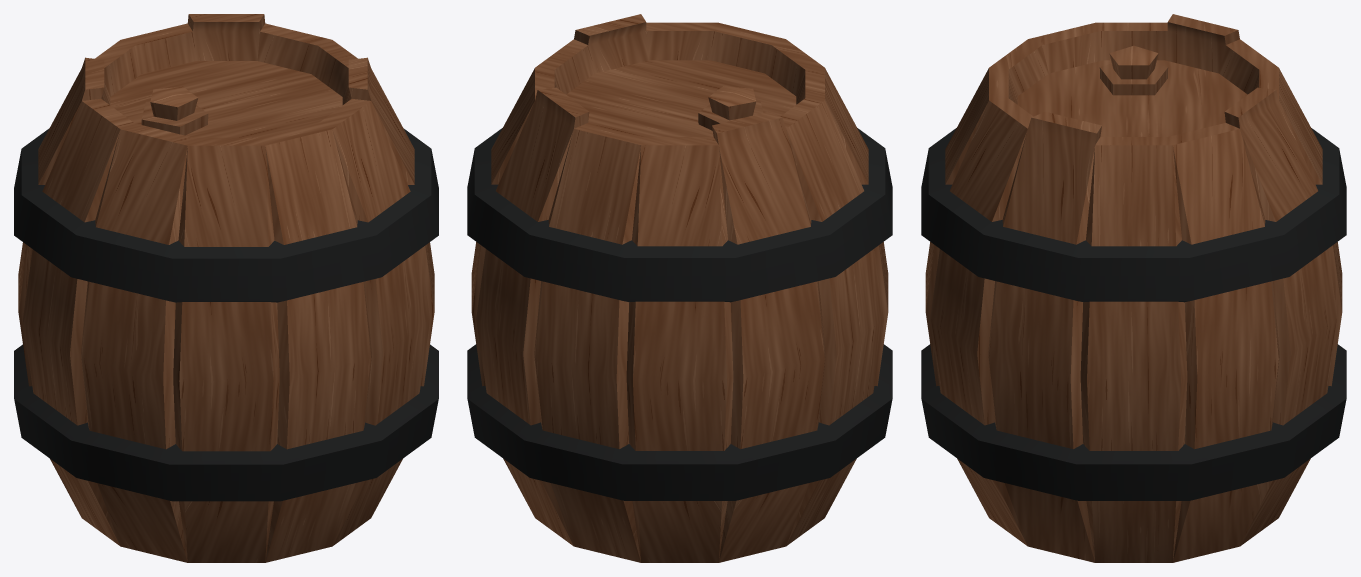
Rendered from barrel_large.gltf.
3 views of the same model, side by side, from view 1: azimuth 30°, elevation 25°; view 2: azimuth 150°, elevation 25°; view 3: azimuth 270°, elevation 25° (orthographic).
Parts seen in each view (by area): view 1: barrel_large; view 2: barrel_large; view 3: barrel_large.
Part boxes in pixels (x1=…): barrel_large: x1=14, y1=14, x2=438, y2=562; barrel_large: x1=467, y1=14, x2=892, y2=562; barrel_large: x1=921, y1=14, x2=1346, y2=562.
Bounding box in the file's own units: 1.8 × 2 × 1.8.
Materials: 2 (1 with a texture image).
